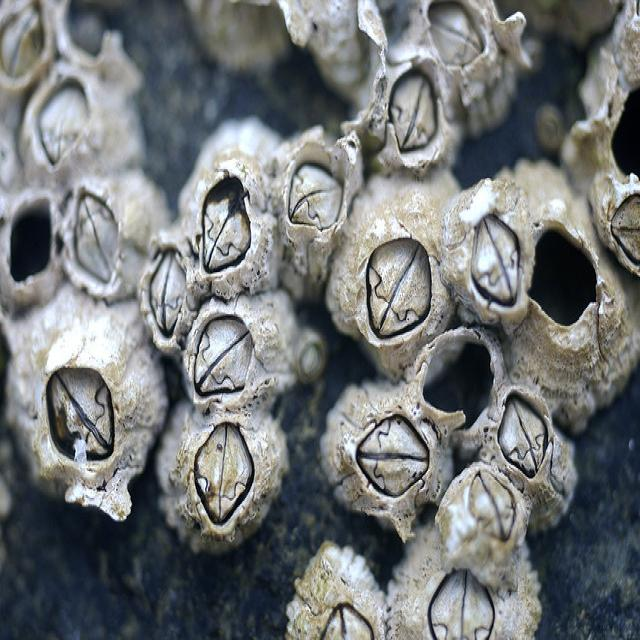barnacles: (8, 312, 146, 547), (510, 149, 624, 414), (319, 381, 449, 547), (341, 192, 454, 360), (160, 427, 290, 563), (185, 133, 278, 297), (15, 66, 138, 184), (178, 302, 291, 422), (417, 0, 520, 123), (60, 172, 146, 310), (280, 123, 353, 280), (455, 193, 536, 329), (374, 62, 459, 188), (483, 382, 568, 501), (294, 540, 380, 640), (440, 468, 525, 567), (137, 229, 196, 356)
